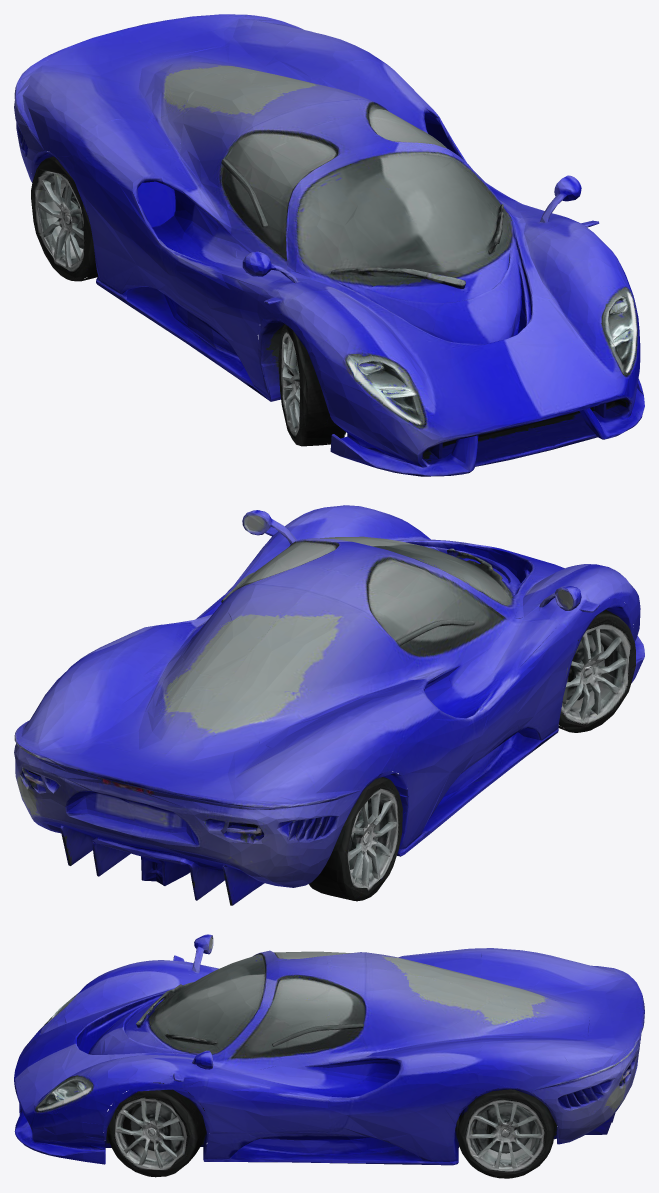
Rendered from vento.glb.
3 views of the same model, one above another, from view 1: azimuth 30°, elevation 25°; view 2: azimuth 150°, elevation 25°; view 3: azimuth 270°, elevation 25° (orthographic). The views are drawn at different scales.
Parts seen in each view (by area): view 1: koerper, rad_vr, rad_hr; view 2: koerper, rad_hr, rad_vr; view 3: koerper, rad_vl, rad_hl.
Part boxes in pixels (x1,y1,x2,y2): koerper: [14, 14, 644, 476]; rad_vr: [257, 313, 345, 446]; rad_hr: [31, 150, 96, 281]; koerper: [14, 505, 644, 905]; rad_hr: [309, 771, 408, 901]; rad_vr: [558, 598, 635, 732]; koerper: [14, 934, 644, 1173]; rad_vl: [103, 1082, 209, 1177]; rad_hl: [454, 1087, 557, 1178].
Size of the model in its own units: 2.13 by 1.25 by 4.55.
Materials: 1 (1 with a texture image).
